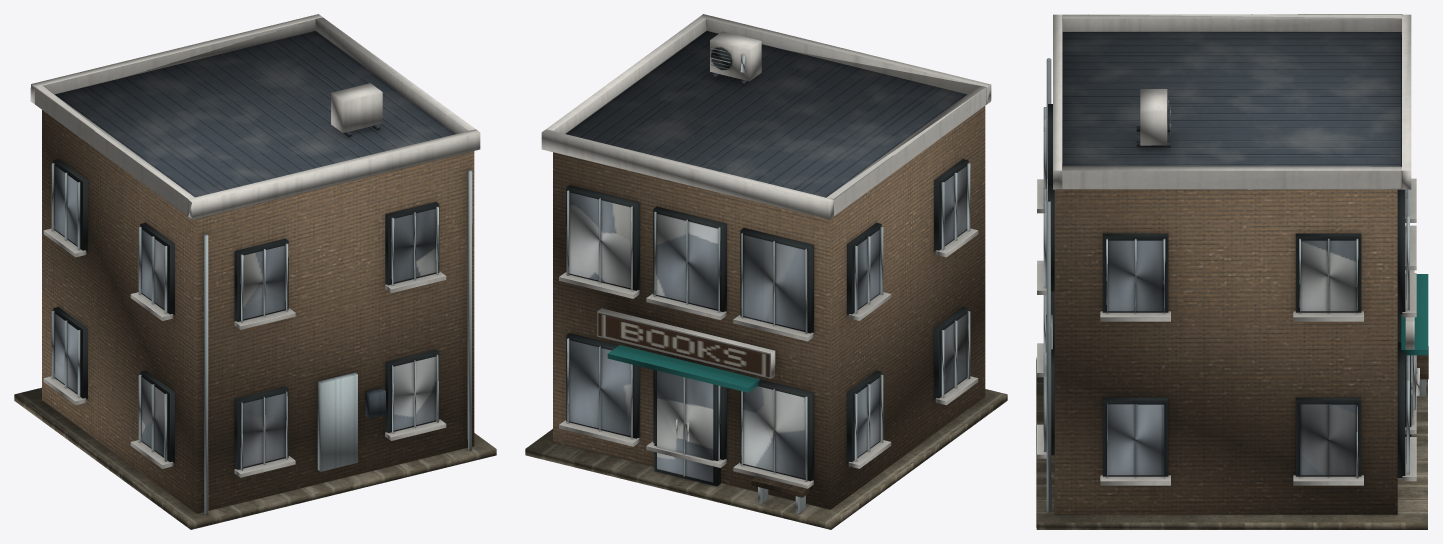
File: public_004.lod1.obj
3 renders of one model, left to right at view 1: azimuth 30°, elevation 25°; view 2: azimuth 150°, elevation 25°; view 3: azimuth 270°, elevation 25°, orthographic. The views are drawn at different scales.
Visible parts, largest first — view 1: public_004; view 2: public_004; view 3: public_004.
Boxes of the visible parts, x1,y1,x2,y2 form: public_004: [14, 14, 496, 529]; public_004: [525, 14, 1007, 529]; public_004: [1036, 14, 1428, 529].
Bounding box in the file's own units: 6.5 × 7.02 × 6.51.
1 material, 1 textured.
